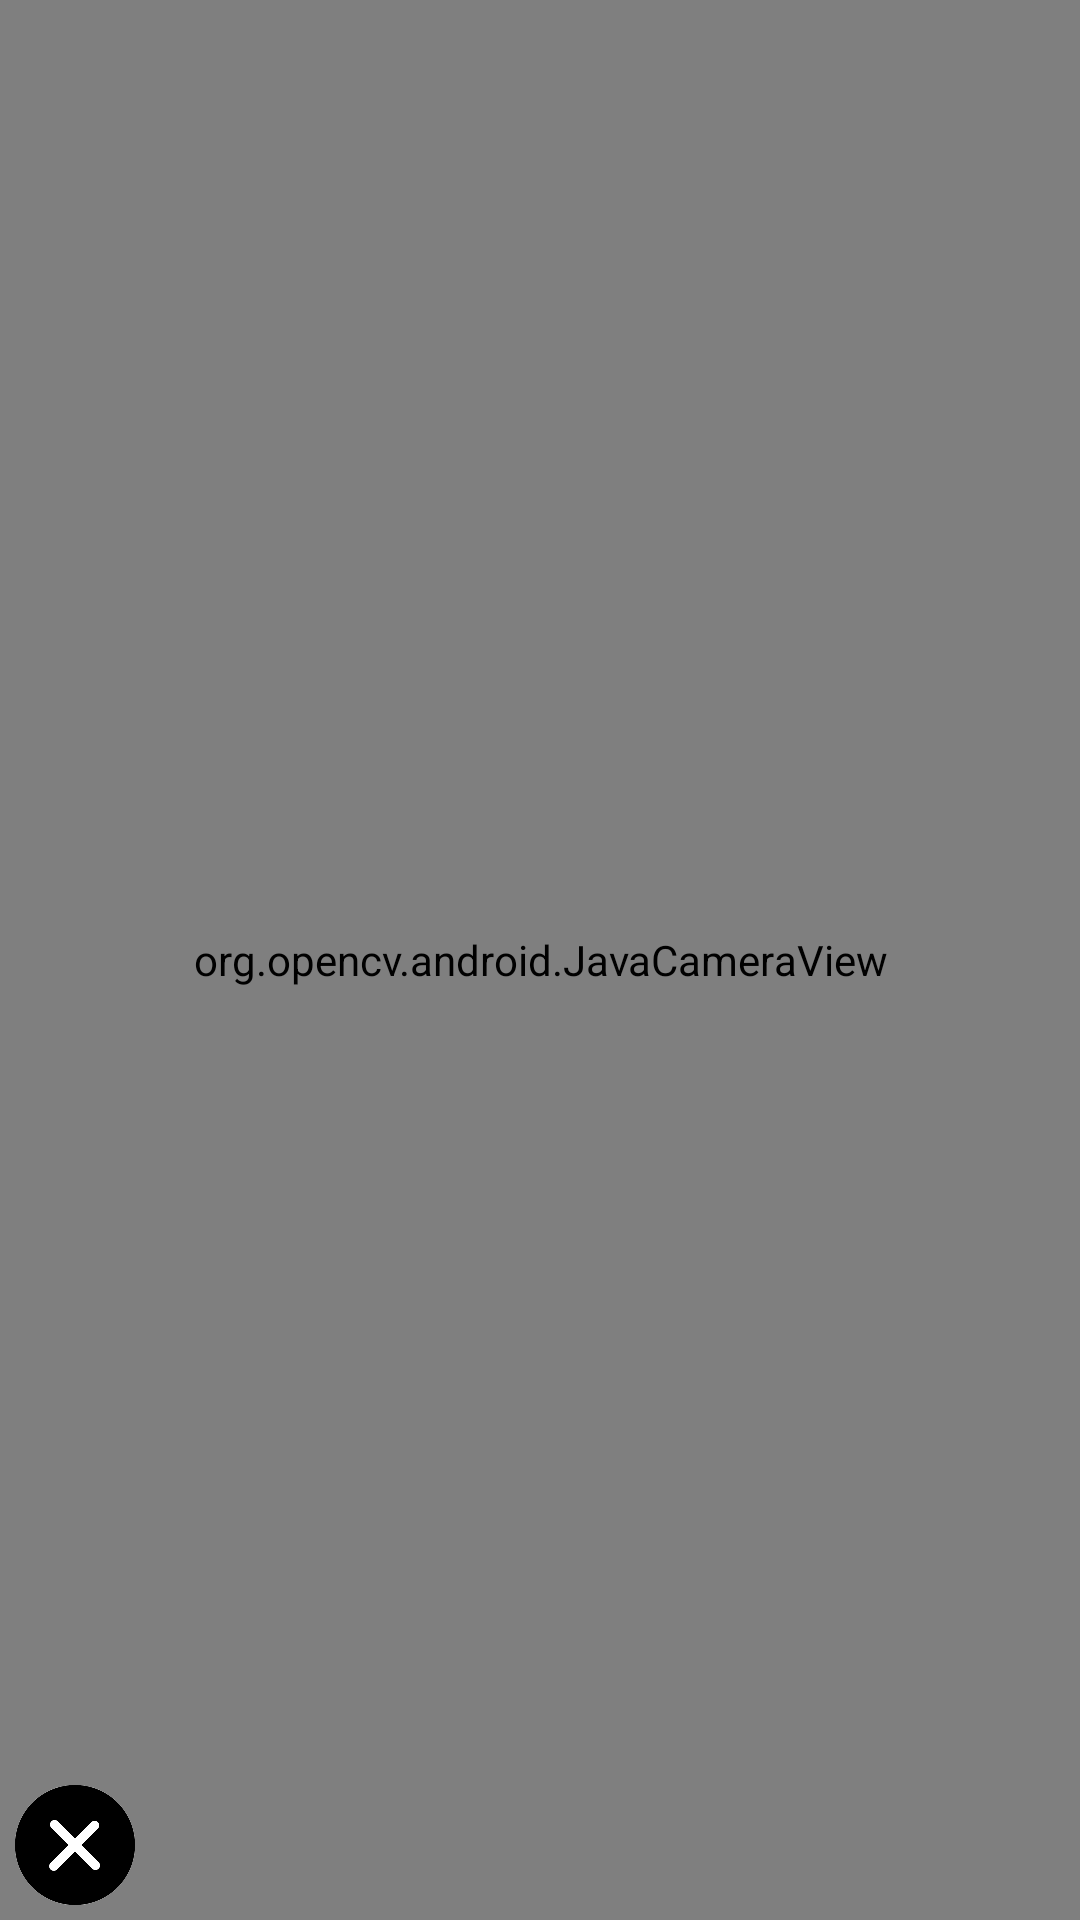

Where to tap for icons on this 1080px x 1920px app screen, as (x,y):
error: (75,1845)
